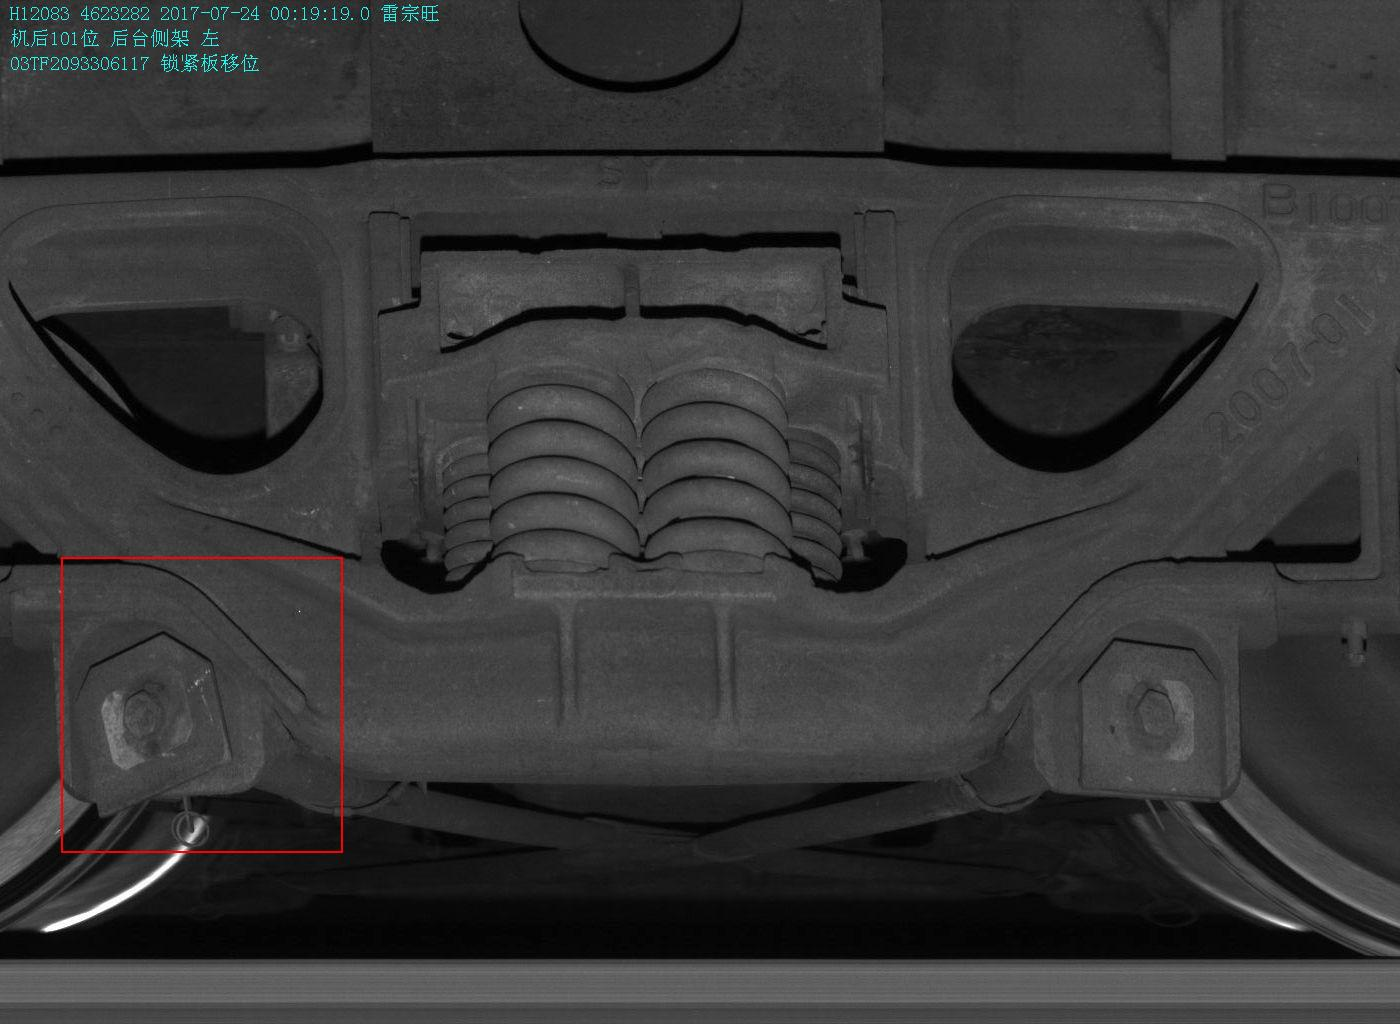Locking plate: (55, 614, 268, 819)
normal: (1030, 614, 1242, 804)
